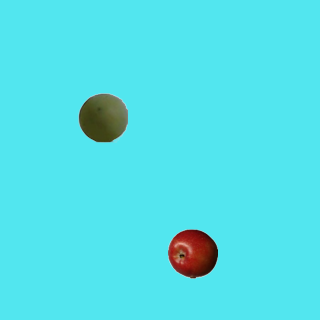Apple Braeburn: (167, 228, 217, 278)
Grape White 4: (77, 92, 127, 142)
